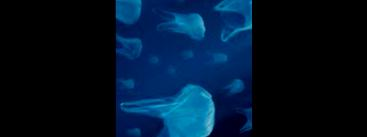Plastic: (120, 79, 214, 136), (150, 8, 211, 39)
